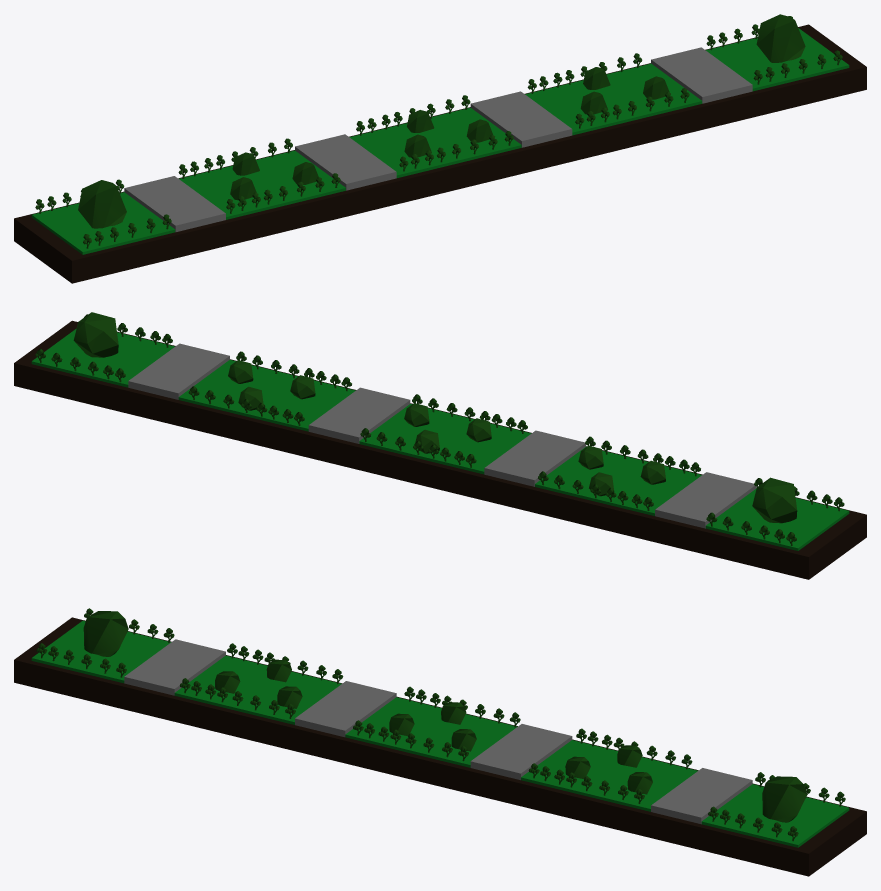
Rendered from plant.fbx.
3 renders of one model, top to bottom at view 1: azimuth 30°, elevation 25°; view 2: azimuth 150°, elevation 25°; view 3: azimuth 330°, elevation 25°, orthographic.
Visible parts, largest first — view 1: Object007; view 2: Object007; view 3: Object007.
Boxes of the visible parts, x1=… form: Object007: x1=14, y1=14, x2=866, y2=283; Object007: x1=14, y1=312, x2=866, y2=579; Object007: x1=14, y1=608, x2=866, y2=876.
Size of the model in its own units: 219 by 16.23 by 27.77.
